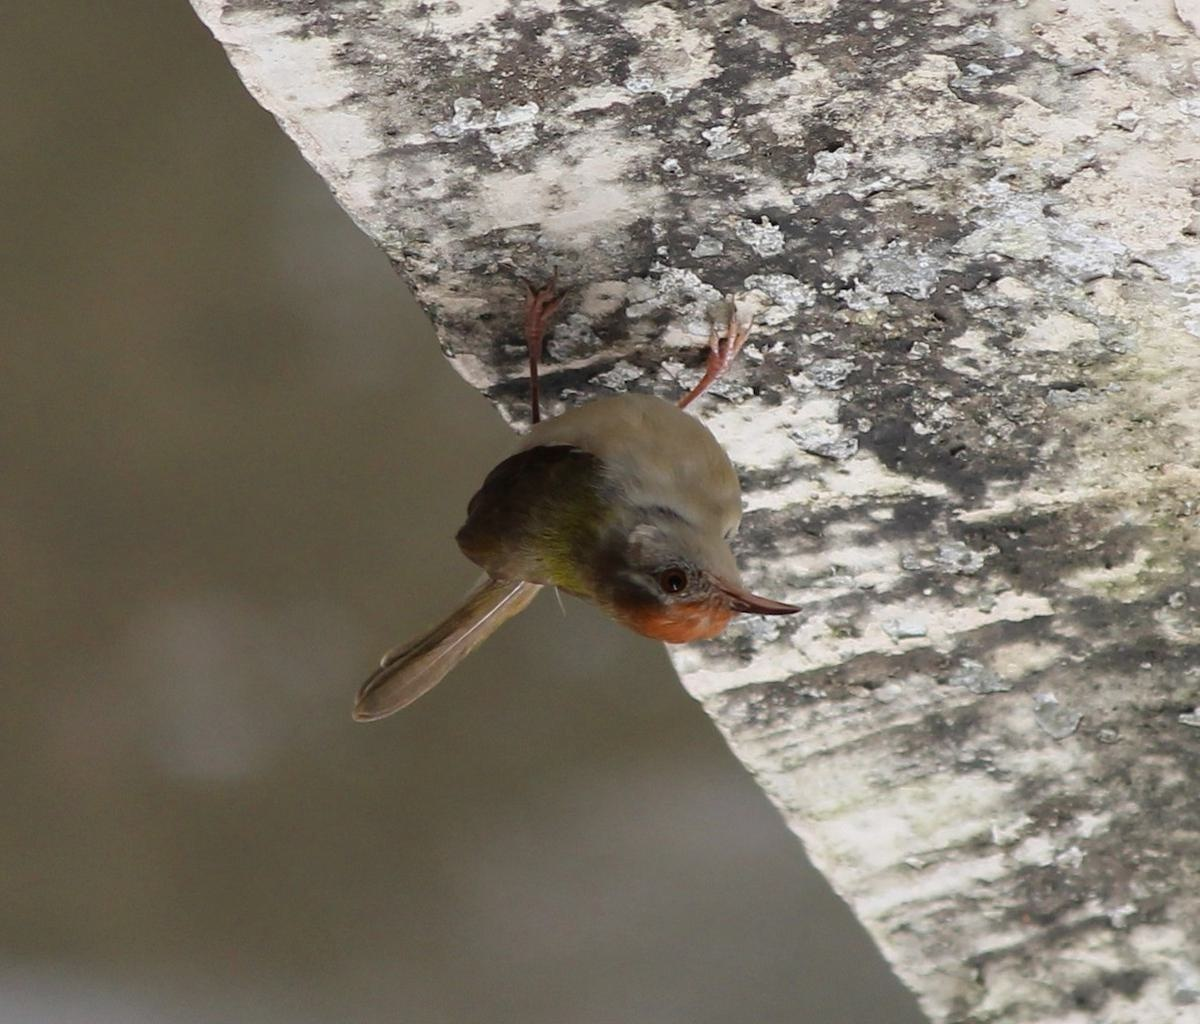tailorbird: (308, 299, 798, 756)
